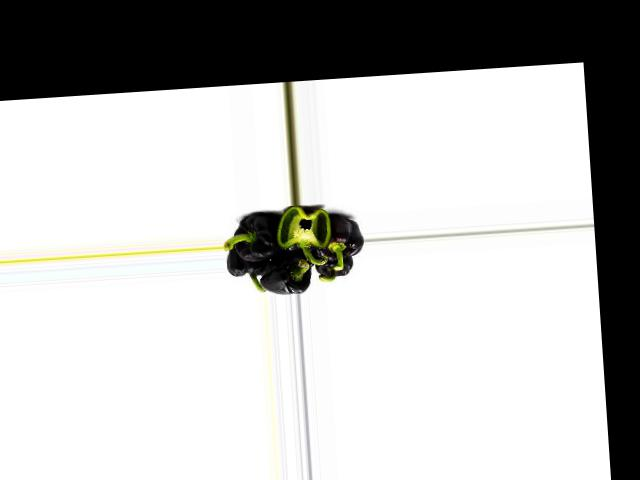bell_pepper: (304, 215, 363, 262)
